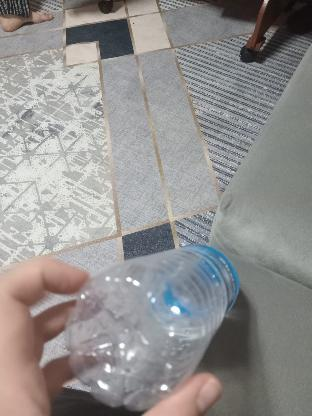Plastic Bottle: (66, 245, 242, 405)
